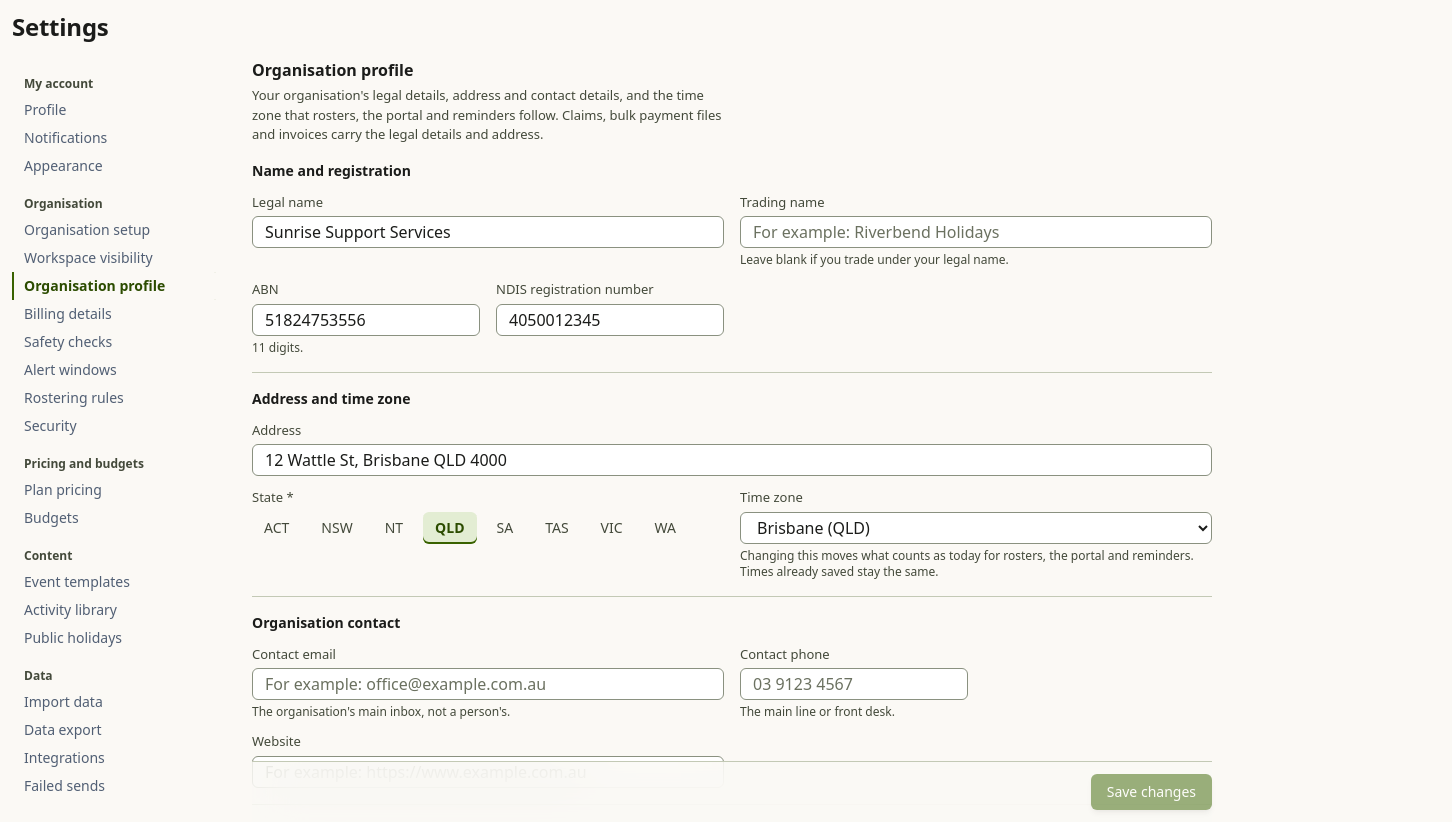
Organisation profile › sends the row as the server holds it with only the changed field replaced, and never a mode
Replace the text in the field labelled "Legal name" with "Sunrise Care" at [488, 232], box [252,216,724,248]
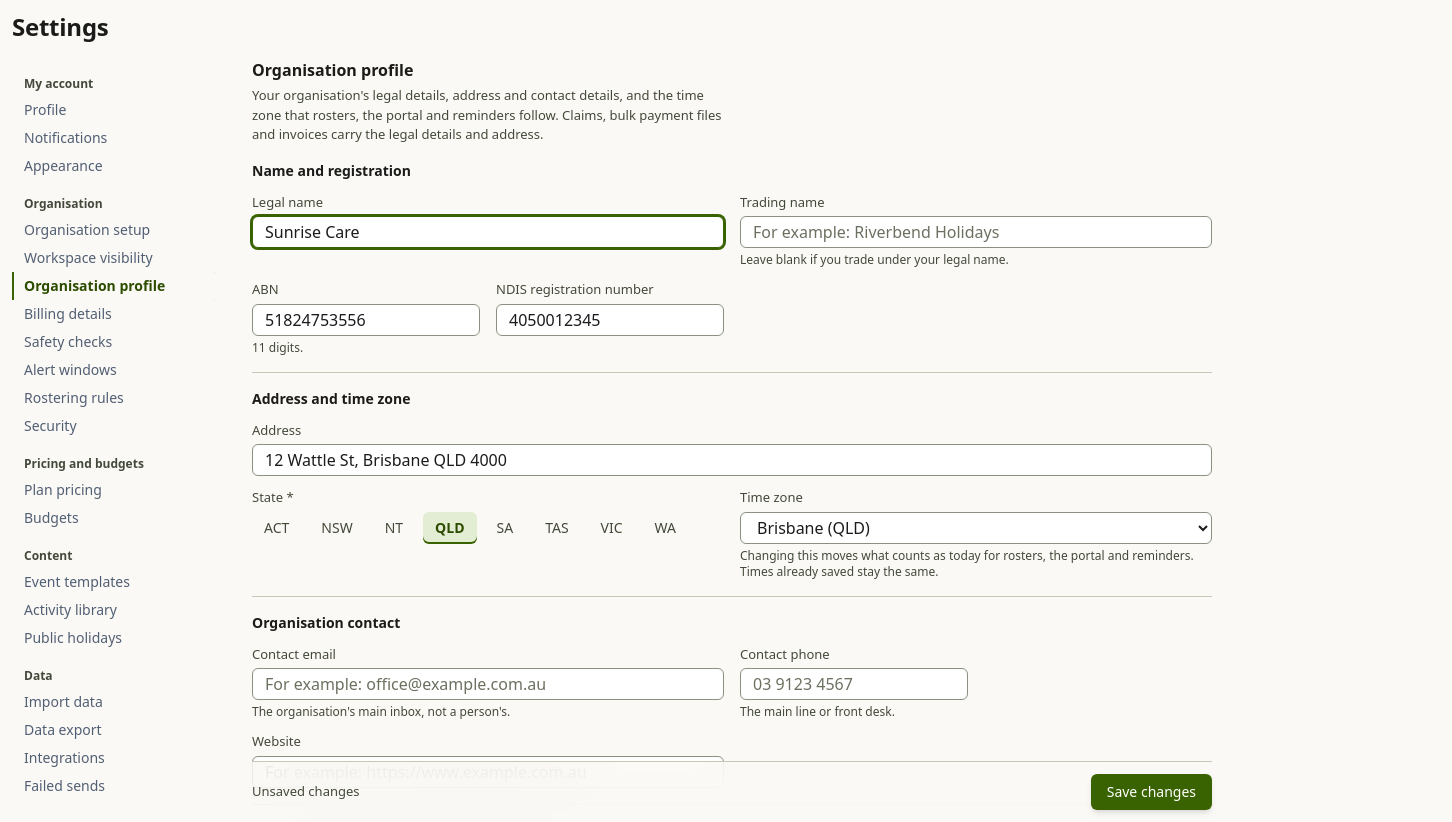
Click the button "Save changes" at [1151, 792], box [1091,774,1212,810]
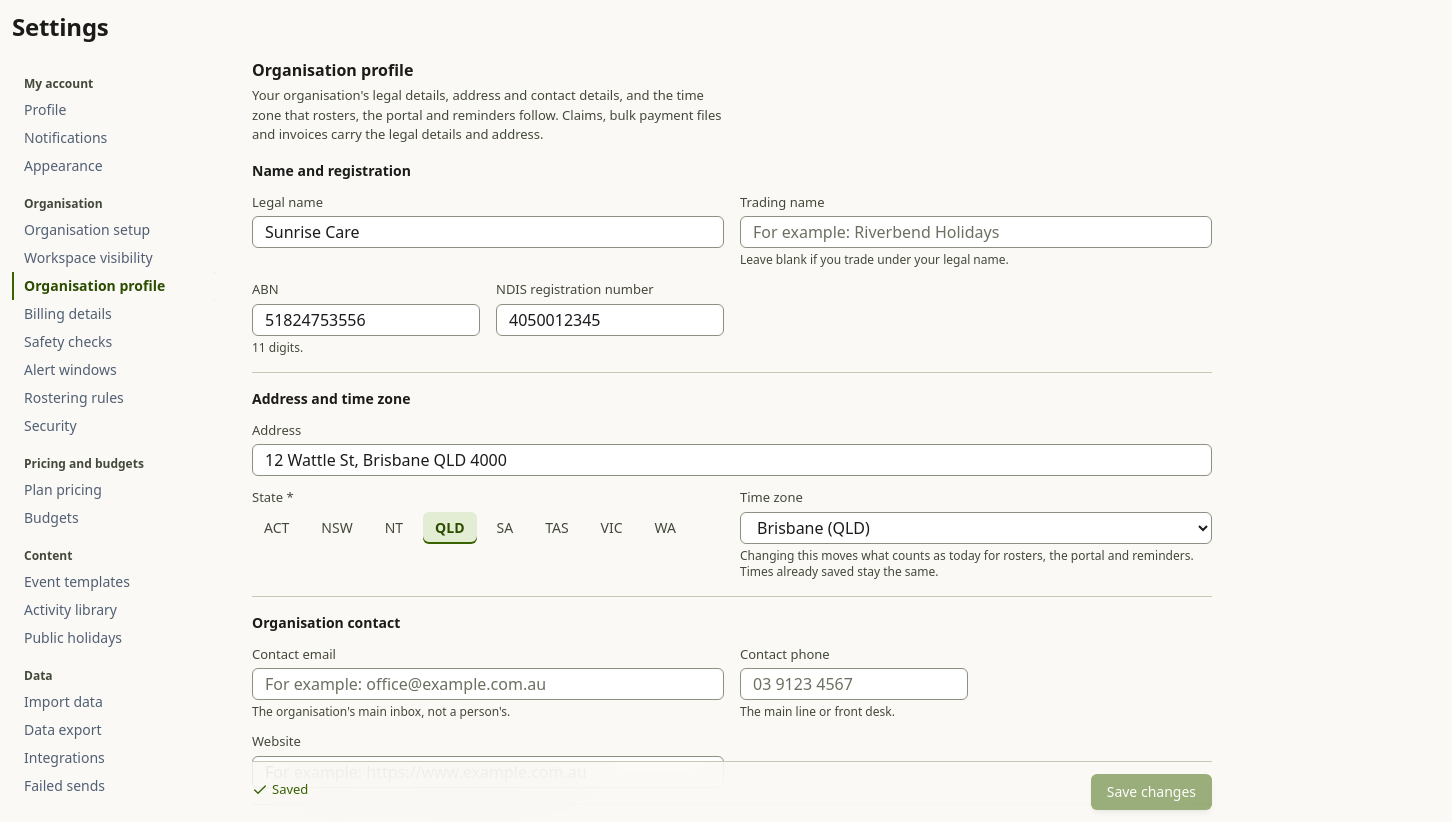
Now the message reads "Saved", box [272,780,308,798]
